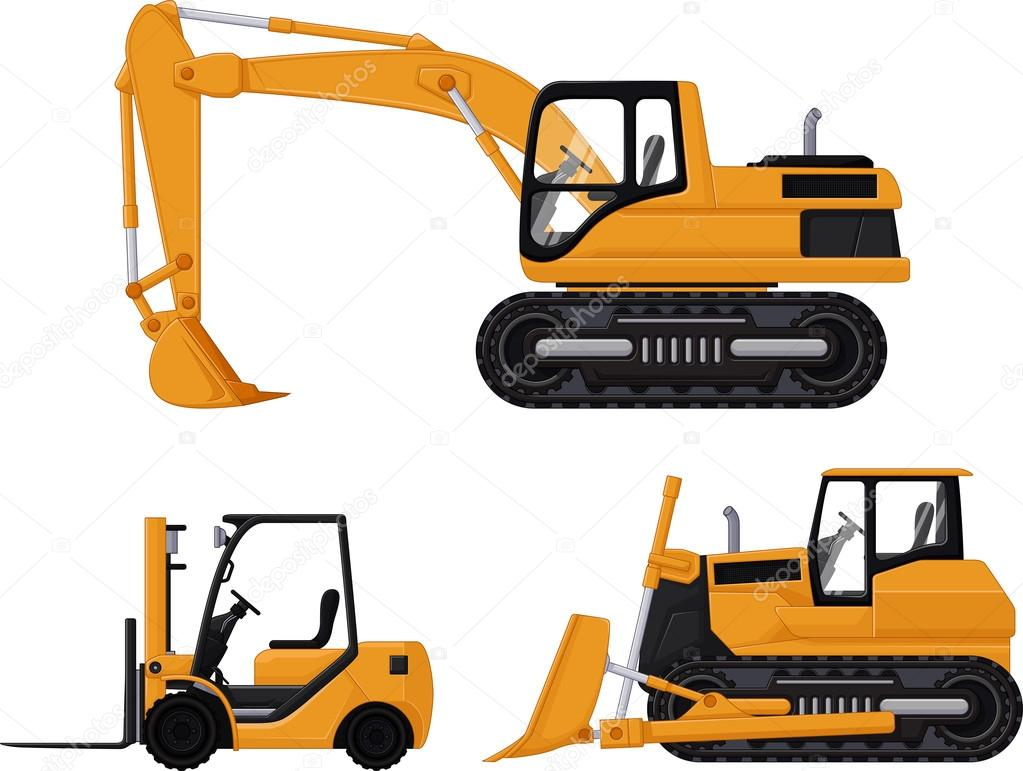backhoe: (114, 1, 907, 419)
